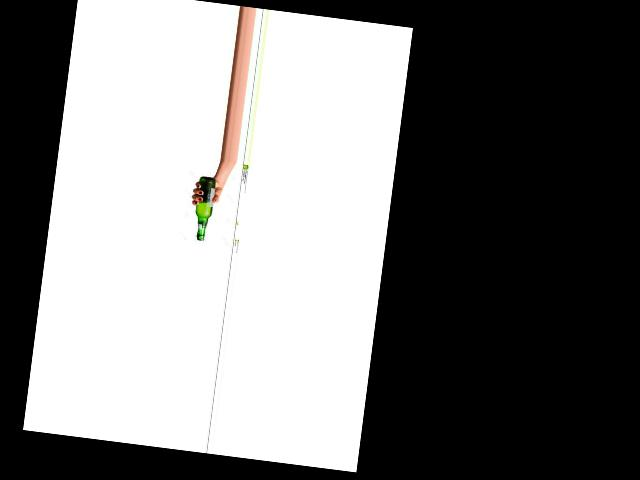beer: (192, 176, 217, 242)
